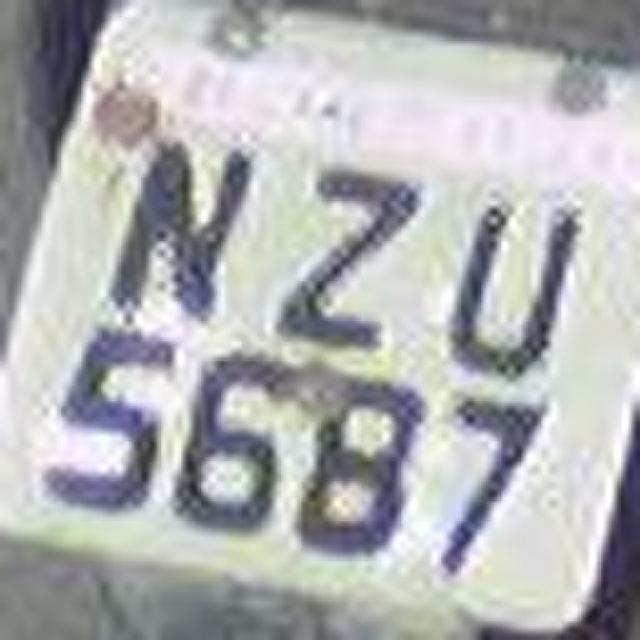5: (20, 316, 195, 516)
6: (136, 332, 324, 548)
7: (411, 375, 564, 580)
8: (276, 340, 449, 575)
N: (80, 132, 268, 328)
U: (436, 164, 592, 396)
Z: (264, 164, 416, 351)
